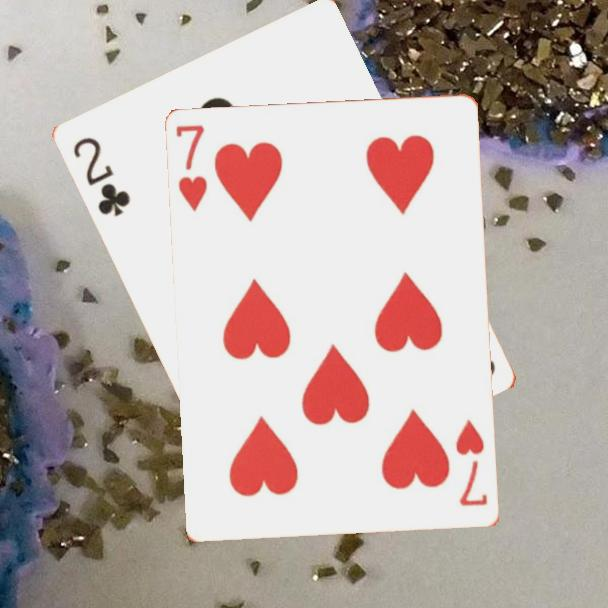c02: (70, 133, 134, 220)
h07: (452, 416, 491, 509), (173, 121, 211, 215)
